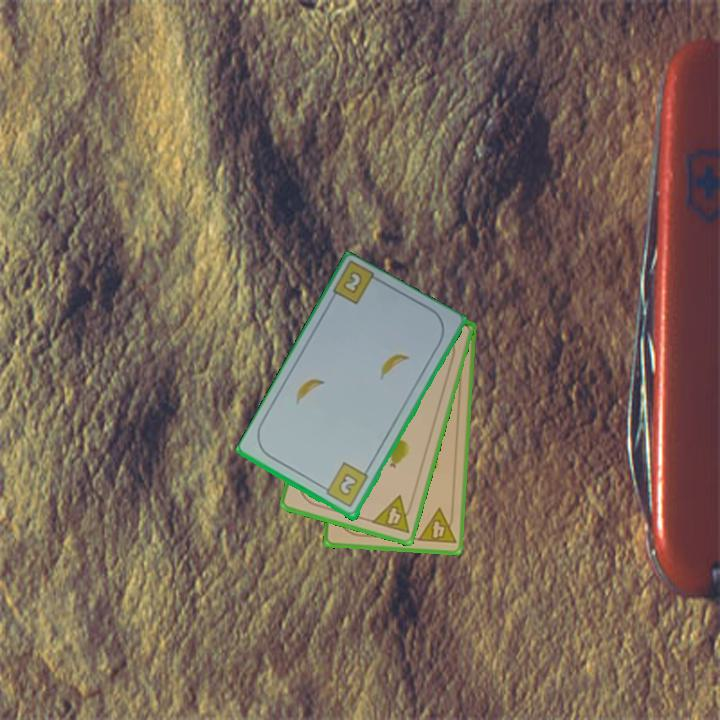2b: (318, 459, 371, 511), (339, 268, 365, 297)
4p: (368, 492, 417, 536), (414, 505, 459, 547)
